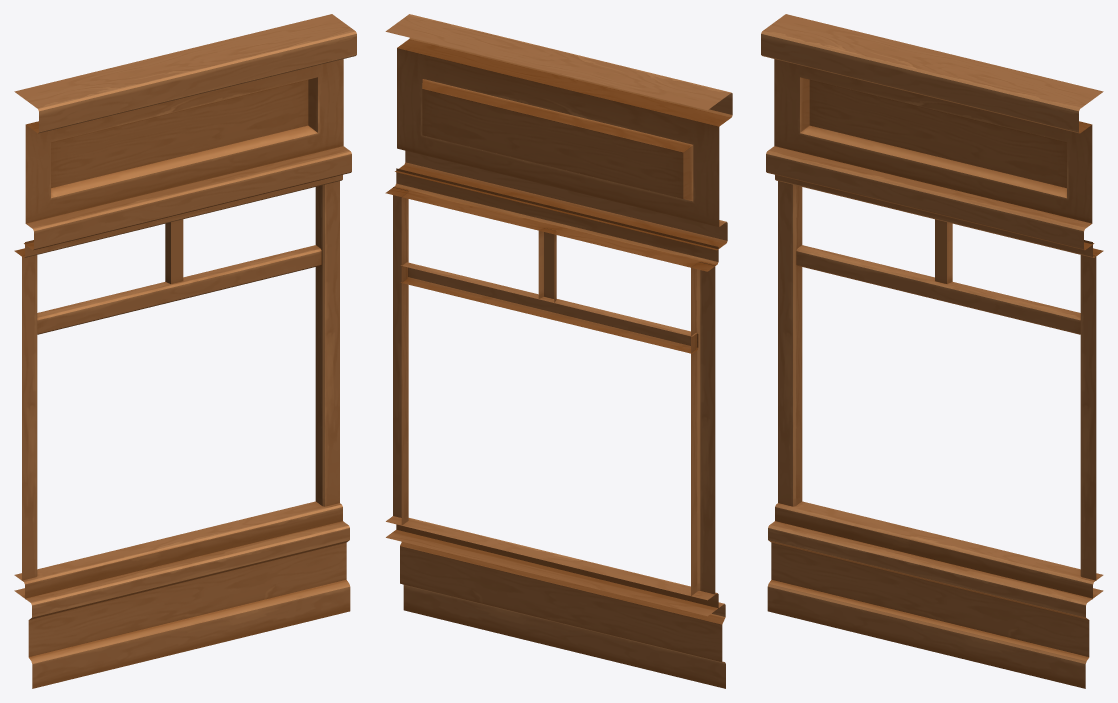
The model's file is SM_Wall_Store.FBX.
3 views of the same model, side by side, from view 1: azimuth 30°, elevation 25°; view 2: azimuth 150°, elevation 25°; view 3: azimuth 330°, elevation 25° (orthographic).
Parts seen in each view (by area): view 1: SM_Wall_Store; view 2: SM_Wall_Store; view 3: SM_Wall_Store.
Boxes of the visible parts, x1,y1,x2,y2 form: SM_Wall_Store: (14, 14, 356, 688); SM_Wall_Store: (385, 14, 732, 688); SM_Wall_Store: (761, 14, 1103, 688).
Bounding box in the file's own units: 200 × 351 × 26.99.
